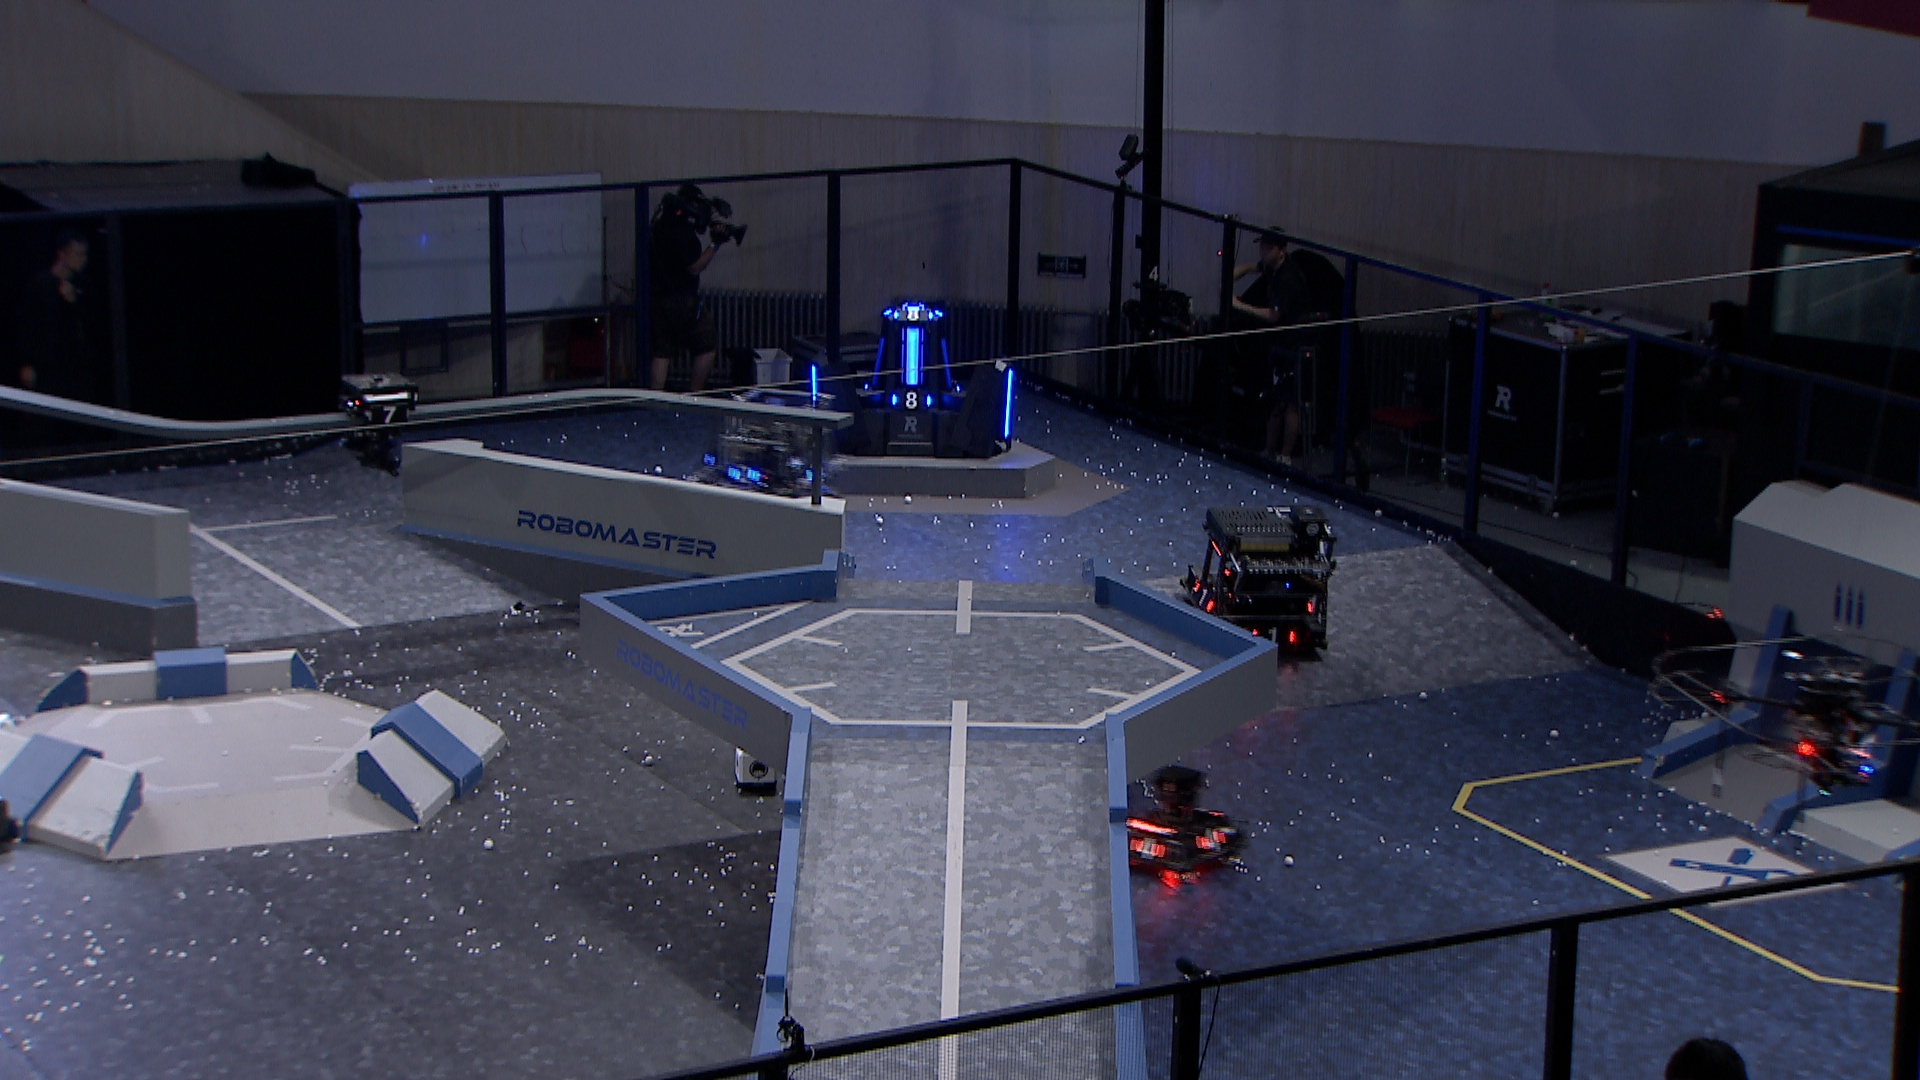armor: (902, 327, 922, 386), (1247, 624, 1299, 646), (936, 338, 956, 394), (887, 389, 935, 411), (1129, 836, 1168, 862), (1191, 579, 1218, 616), (1195, 827, 1230, 855), (870, 335, 887, 392), (1002, 367, 1015, 439), (367, 405, 409, 427), (727, 465, 764, 491), (889, 309, 935, 324), (808, 363, 822, 398)
base: (804, 302, 1017, 463)
car: (1182, 505, 1338, 665), (688, 390, 843, 518), (1114, 761, 1253, 882)
watcher: (338, 372, 419, 476)
